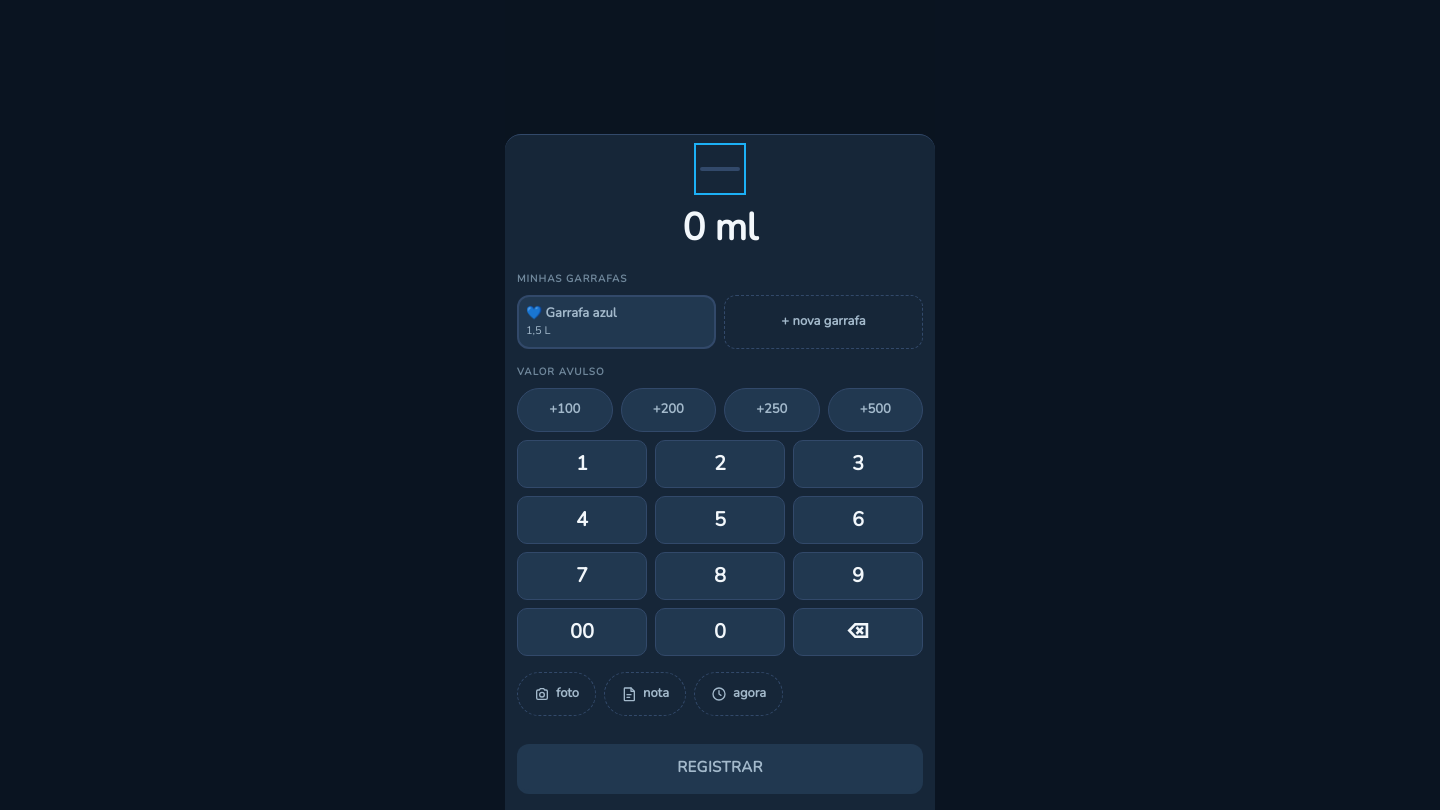
Test case: RegisterSheet › tapping a bottle raises the running total; tapping again increments
Click the button "💙 Garrafa azul 1,5 L": (616, 322) [517,294,716,348]
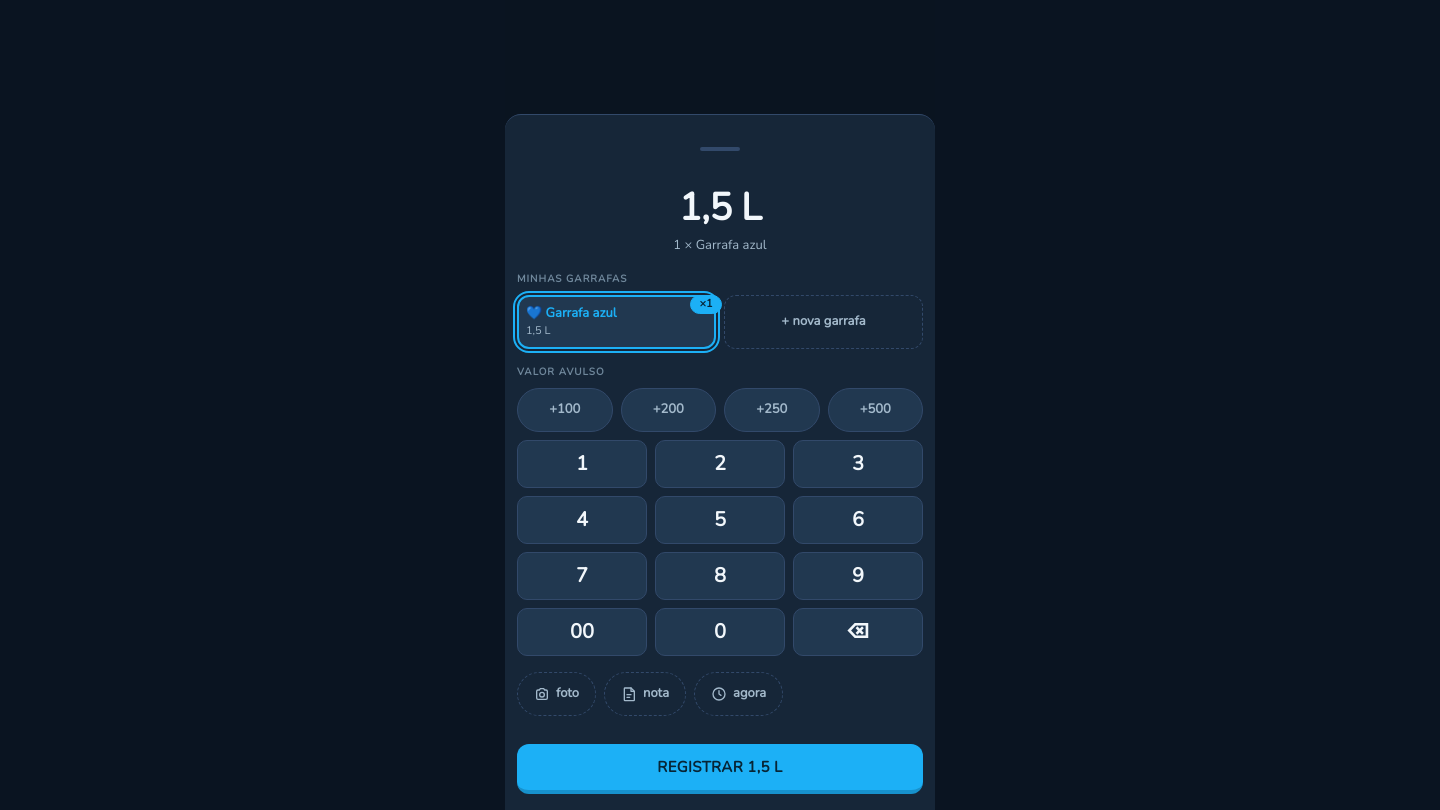
Now the text "1,5 L" is shown 3 times, box [679,182,761,233]; [526,323,550,338]; [747,756,783,776]
Click the button "💙 Garrafa azul 1,5 L": (616, 322) [517,294,716,348]
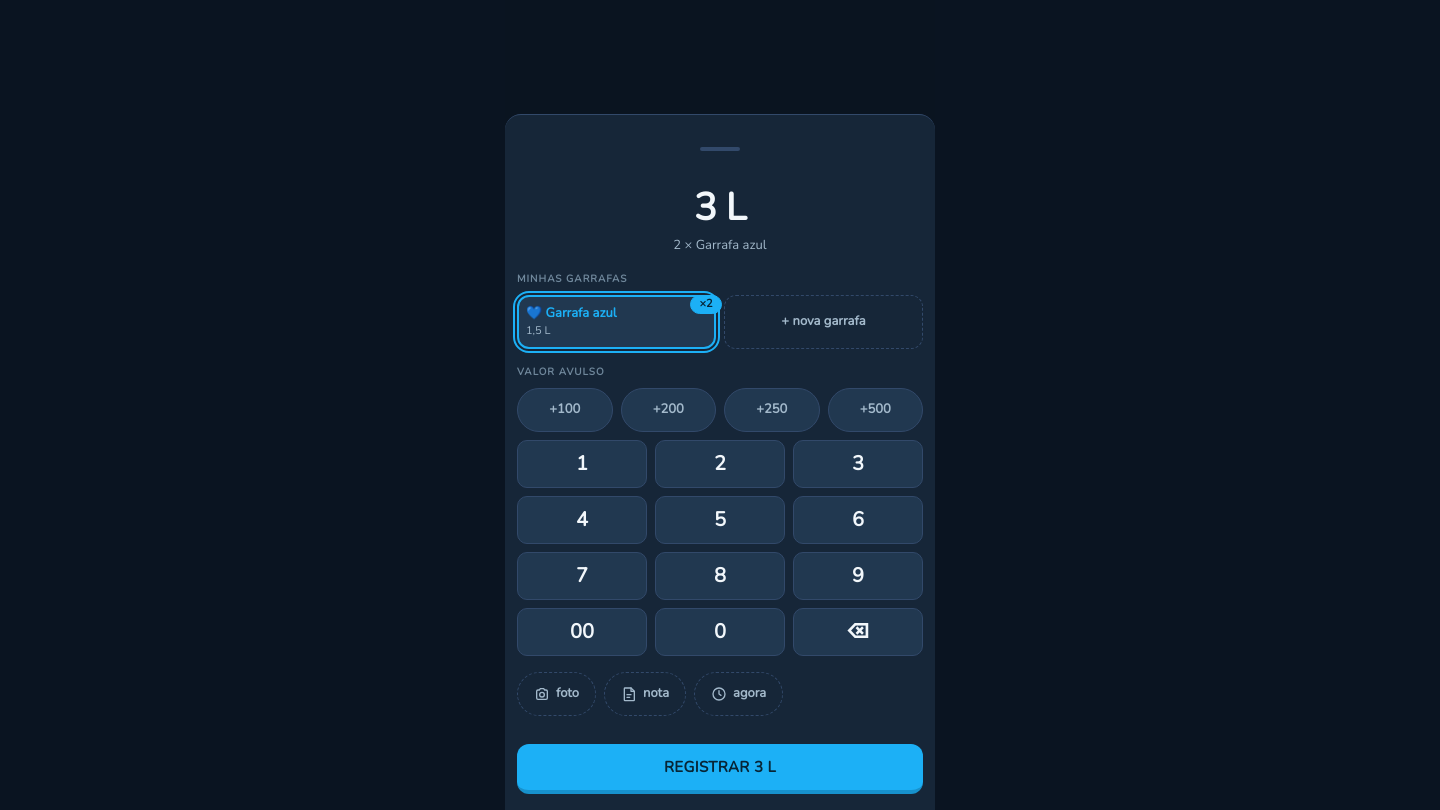
Now the text "3 L" is shown 2 times, box [694,182,746,233]; [754,756,776,776]
Now the text "×2" is shown, box [690,295,722,314]
